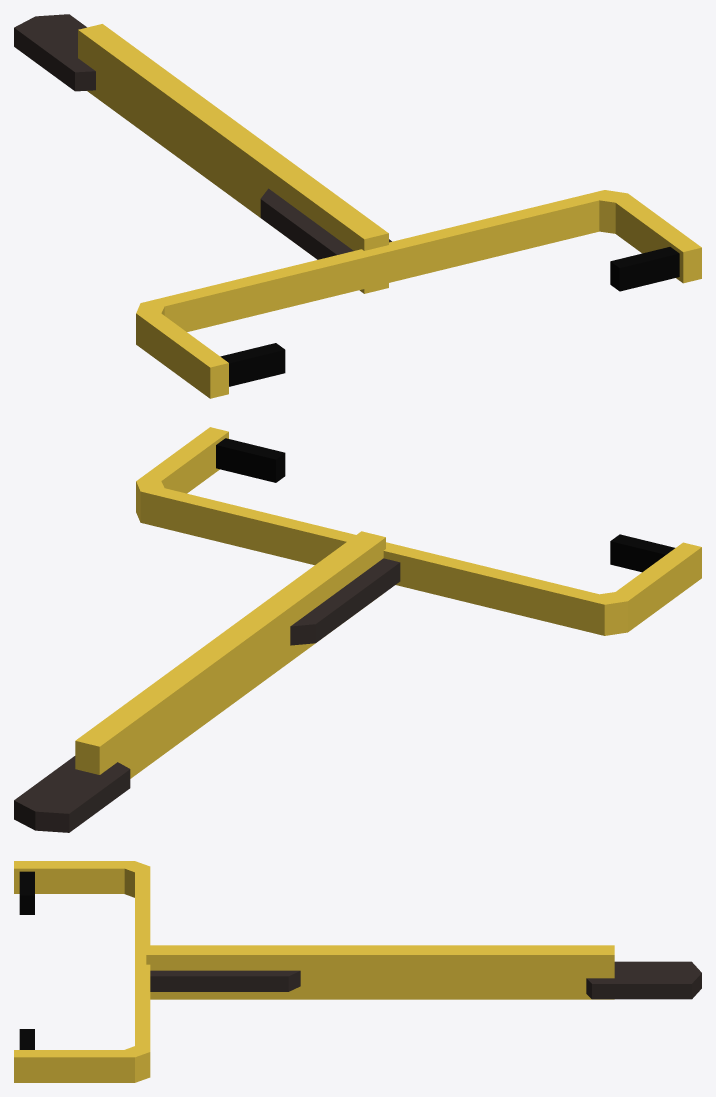
File: roller_hold.fbx
The picture shows the model from 3 angles, top to bottom: view 1: azimuth 30°, elevation 25°; view 2: azimuth 150°, elevation 25°; view 3: azimuth 270°, elevation 25°; orthographic projection. The views are drawn at different scales.
Parts seen in each view (by area): view 1: roller_hold; view 2: roller_hold; view 3: roller_hold.
Part boxes in pixels (x1,y1,x2,y2): roller_hold: (14, 14, 701, 398); roller_hold: (14, 427, 701, 832); roller_hold: (14, 861, 701, 1082).
Size of the model in its own units: 320 by 33.98 by 474.
